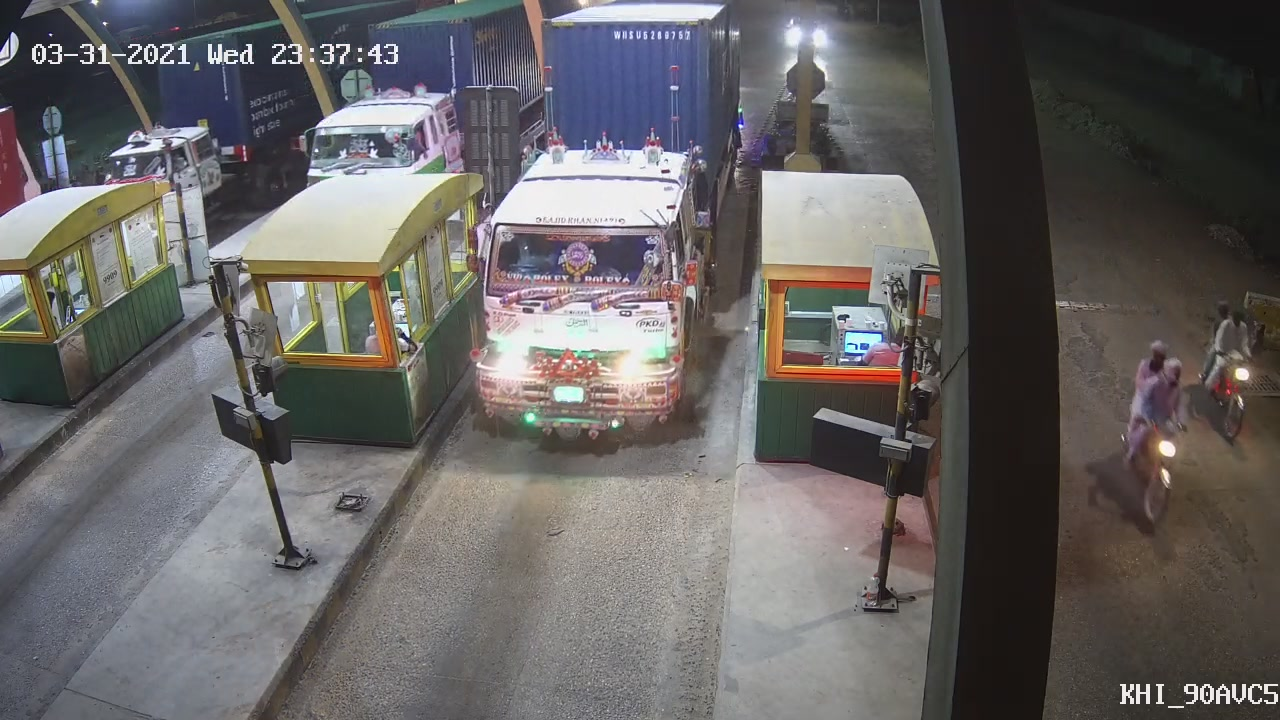F6: (467, 1, 750, 449)
